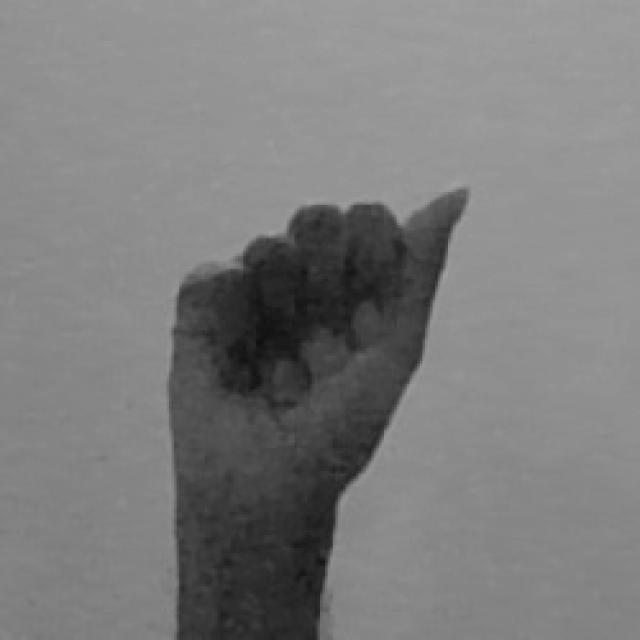A: (153, 176, 483, 640)
